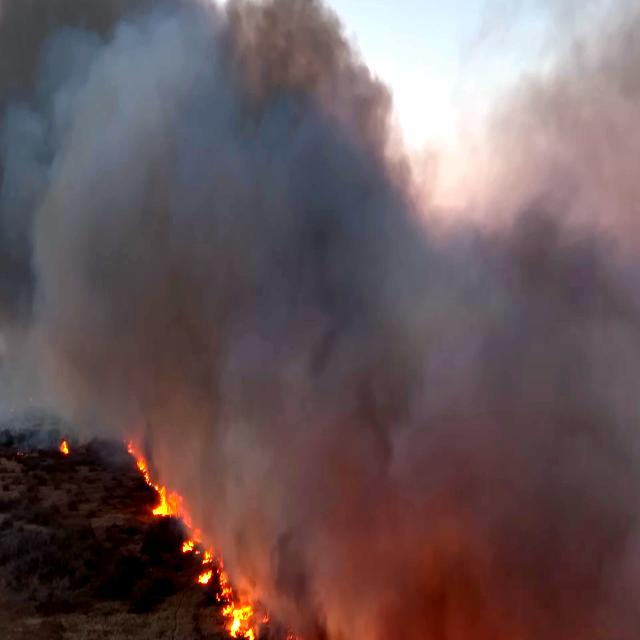smoke: (0, 0, 335, 389), (517, 3, 640, 640), (354, 143, 503, 640)
